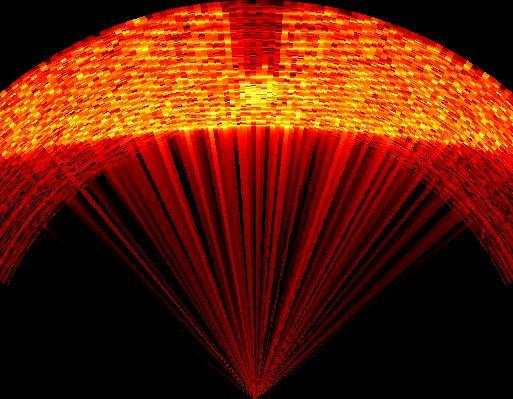box_crate: (226, 2, 284, 75)
